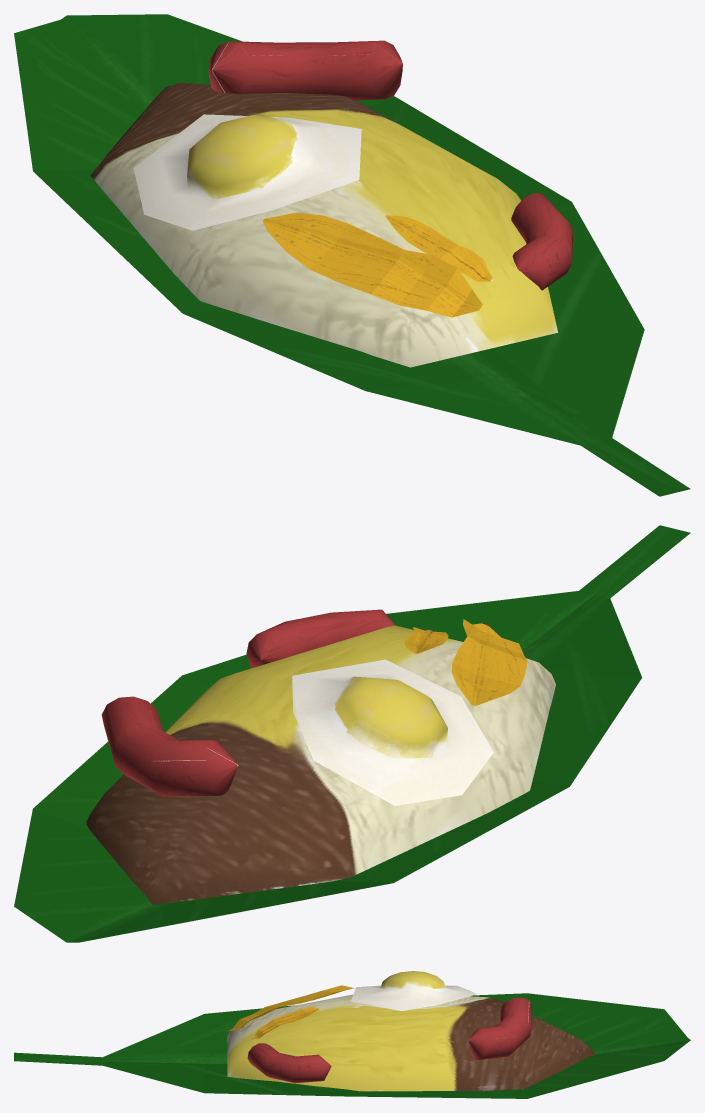
Rendered from fiambre.glb.
3 views of the same model, one above another, from view 1: azimuth 30°, elevation 25°; view 2: azimuth 150°, elevation 25°; view 3: azimuth 270°, elevation 25° (orthographic). The views are drawn at different scales.
Parts seen in each view (by area): view 1: Plane, Sphere, Sphere.001, Plane.001, Torus, Torus.002, Plane.002; view 2: Sphere, Plane, Sphere.001, Torus, Plane.001, Torus.002, Plane.002; view 3: Sphere, Plane, Sphere.001, Torus, Torus.002, Plane.001, Plane.002.
Boxes of the visible parts, <box> form: Plane: <box>14,14,690,496</box>; Sphere: <box>90,82,557,367</box>; Sphere.001: <box>133,114,361,230</box>; Plane.001: <box>263,212,482,317</box>; Torus: <box>208,40,402,100</box>; Torus.002: <box>511,193,572,290</box>; Plane.002: <box>385,215,493,281</box>; Sphere: <box>86,625,555,904</box>; Plane: <box>14,525,690,942</box>; Sphere.001: <box>292,659,493,805</box>; Torus: <box>101,696,238,796</box>; Plane.001: <box>451,619,527,705</box>; Torus.002: <box>246,609,395,667</box>; Plane.002: <box>404,627,448,653</box>; Sphere: <box>227,994,594,1091</box>; Plane: <box>14,993,690,1098</box>; Sphere.001: <box>351,971,476,1011</box>; Torus: <box>468,997,531,1059</box>; Torus.002: <box>247,1043,331,1083</box>; Plane.001: <box>226,985,354,1031</box>; Plane.002: <box>252,1006,318,1039</box>.
Bounding box in the file's own units: 2.55 × 0.8317 × 6.92.
Materials: 8 (8 with a texture image).
